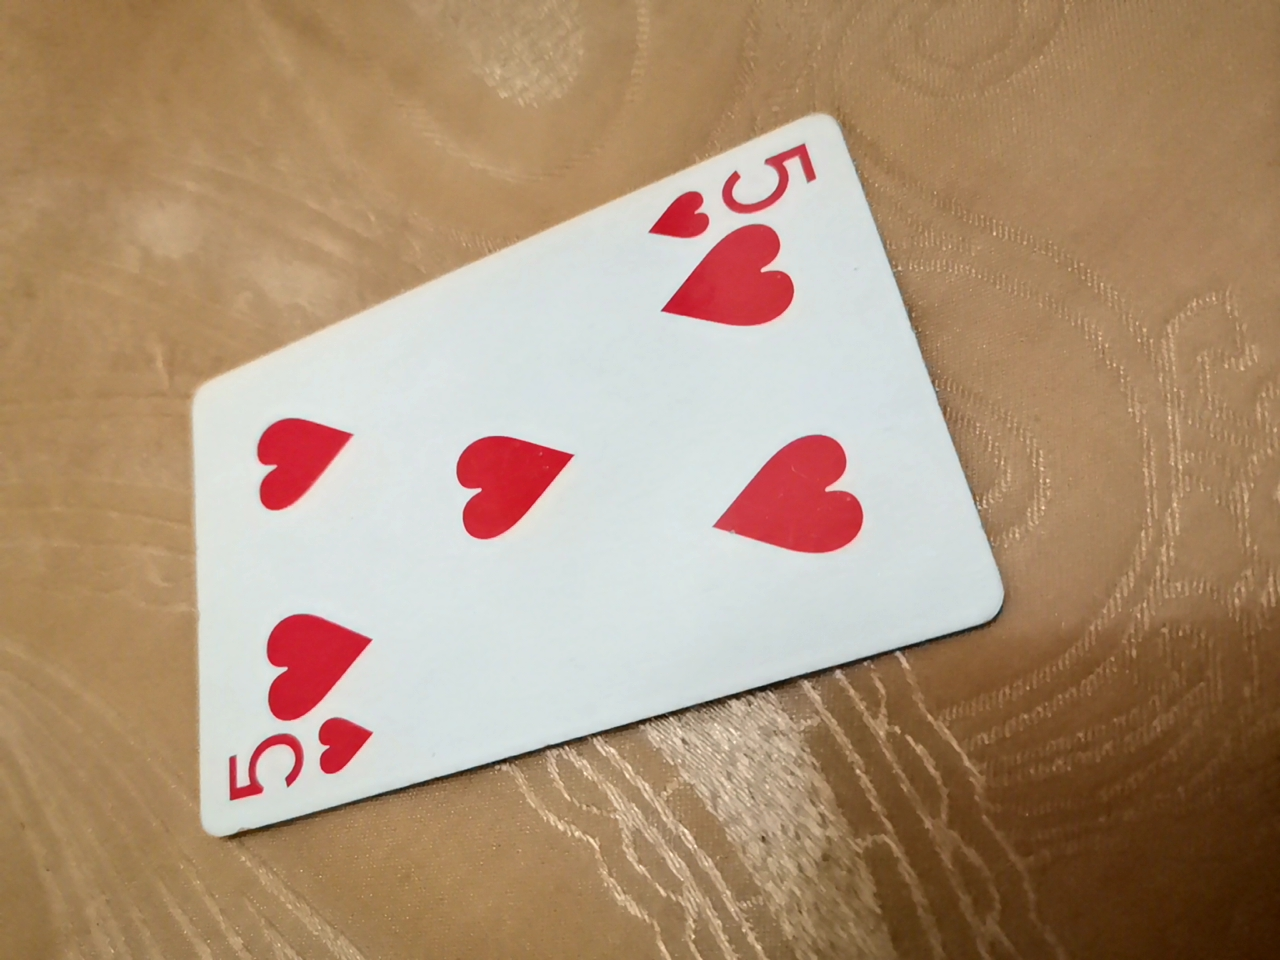hx 5: (246, 8, 1071, 691)
